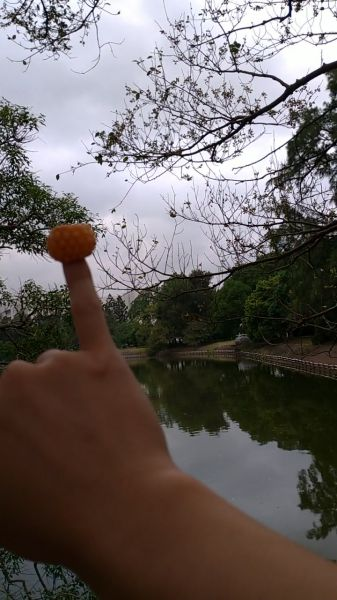eggs: (46, 223, 98, 263)
